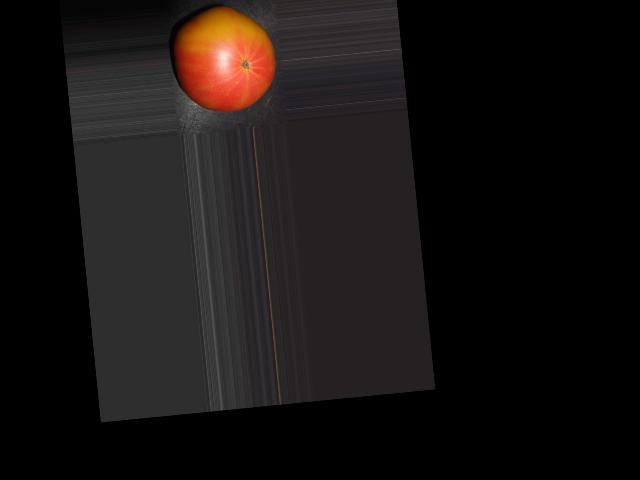tomato: (169, 2, 279, 116)
